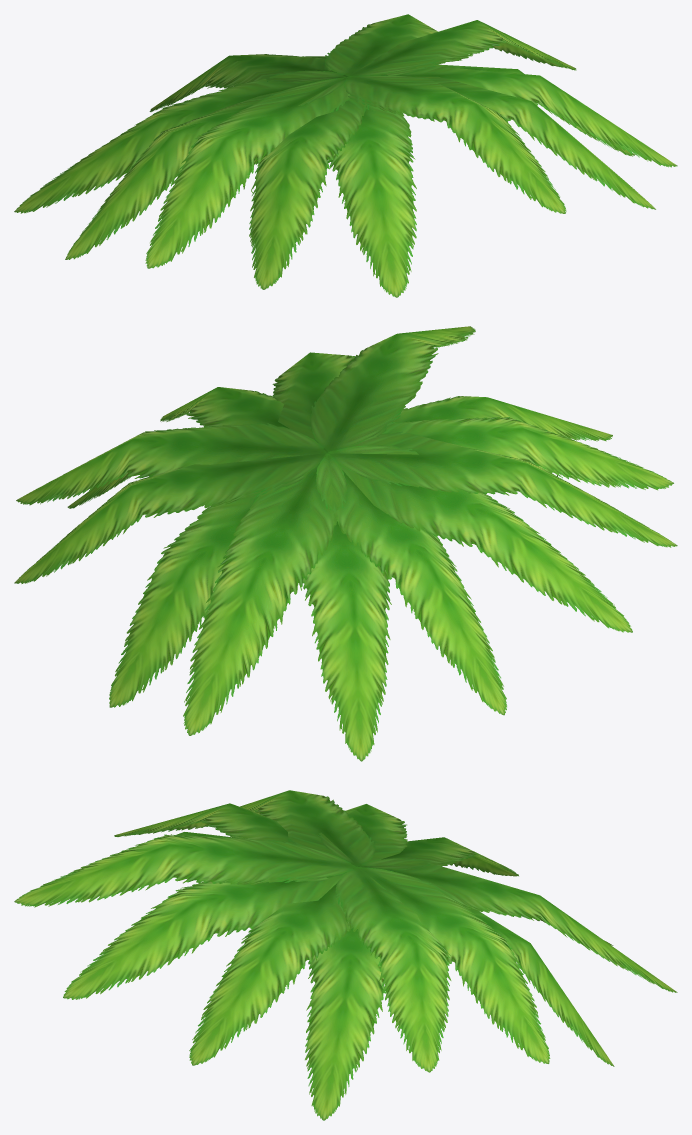
File: PalmCrownMesh107Shape.dae
3 views of the same model, one above another, from view 1: azimuth 30°, elevation 25°; view 2: azimuth 150°, elevation 25°; view 3: azimuth 270°, elevation 25° (orthographic). The views are drawn at different scales.
Parts seen in each view (by area): view 1: PalmCrownMesh107; view 2: PalmCrownMesh107; view 3: PalmCrownMesh107.
Boxes of the visible parts, <box> form: PalmCrownMesh107: <box>14,14,677,297</box>; PalmCrownMesh107: <box>14,326,677,761</box>; PalmCrownMesh107: <box>14,790,677,1120</box>.
Size of the model in its own units: 27.35 by 9.61 by 29.07.
